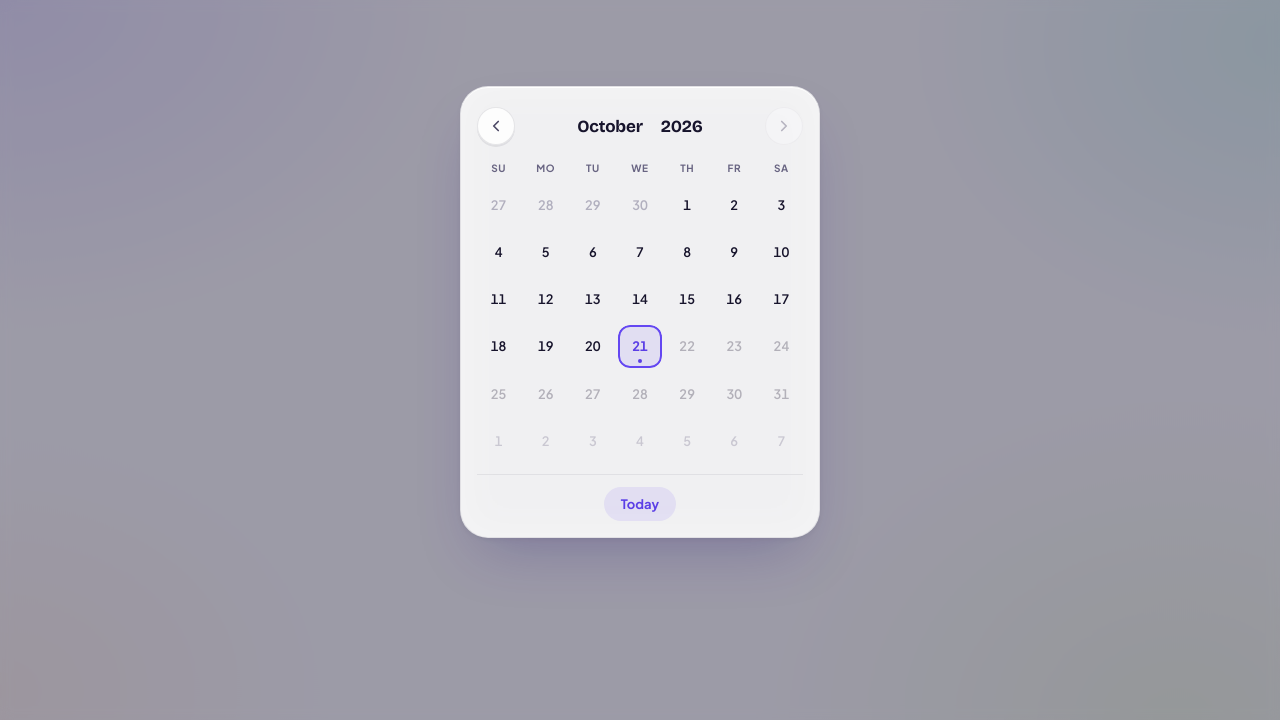
Test: CalendarPicker › picks a month from the month view, with months after the max date disabled
Step 1. Click the button with aria-label "October, choose month" → point(610, 126), box [569,112,651,141]
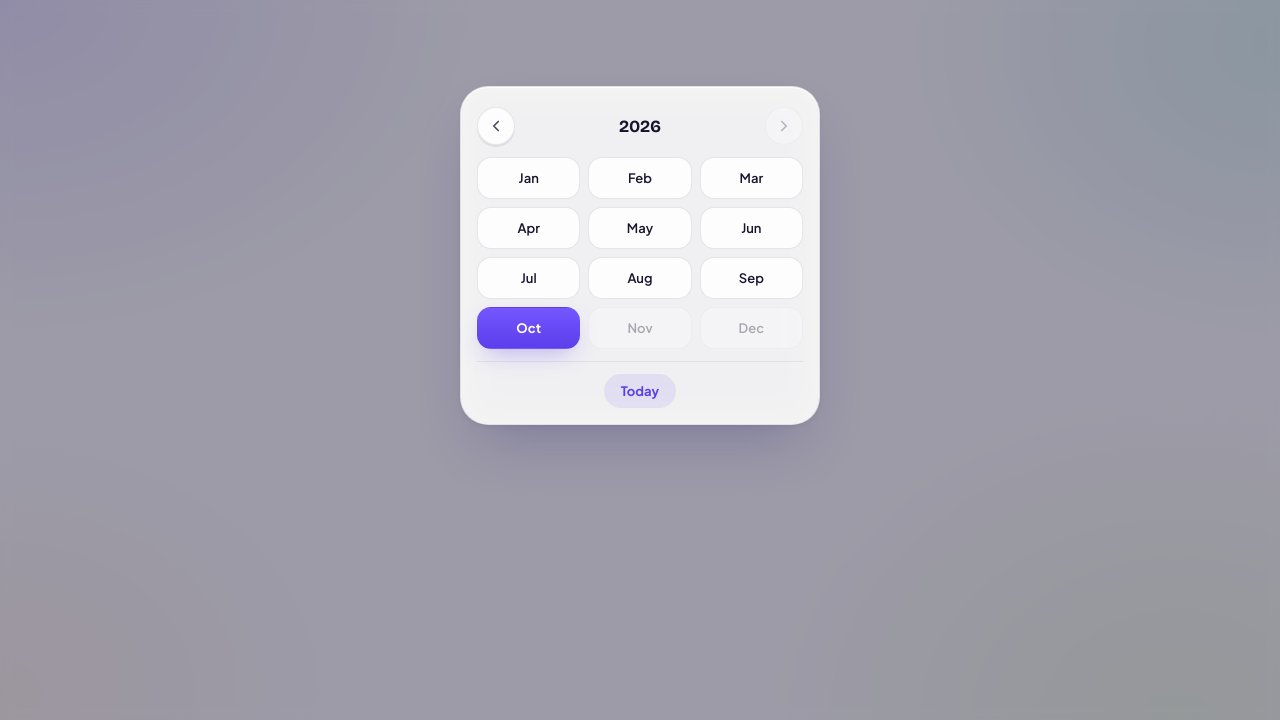
Expected: the button named "Next month" is disabled, [765,107,803,145]
Now the button "Nov" is disabled, box [588,307,692,349]
Now the button "Dec" is disabled, box [700,307,803,349]
Step 2. Click the button "Mar" → point(751, 178), box [700,157,803,199]
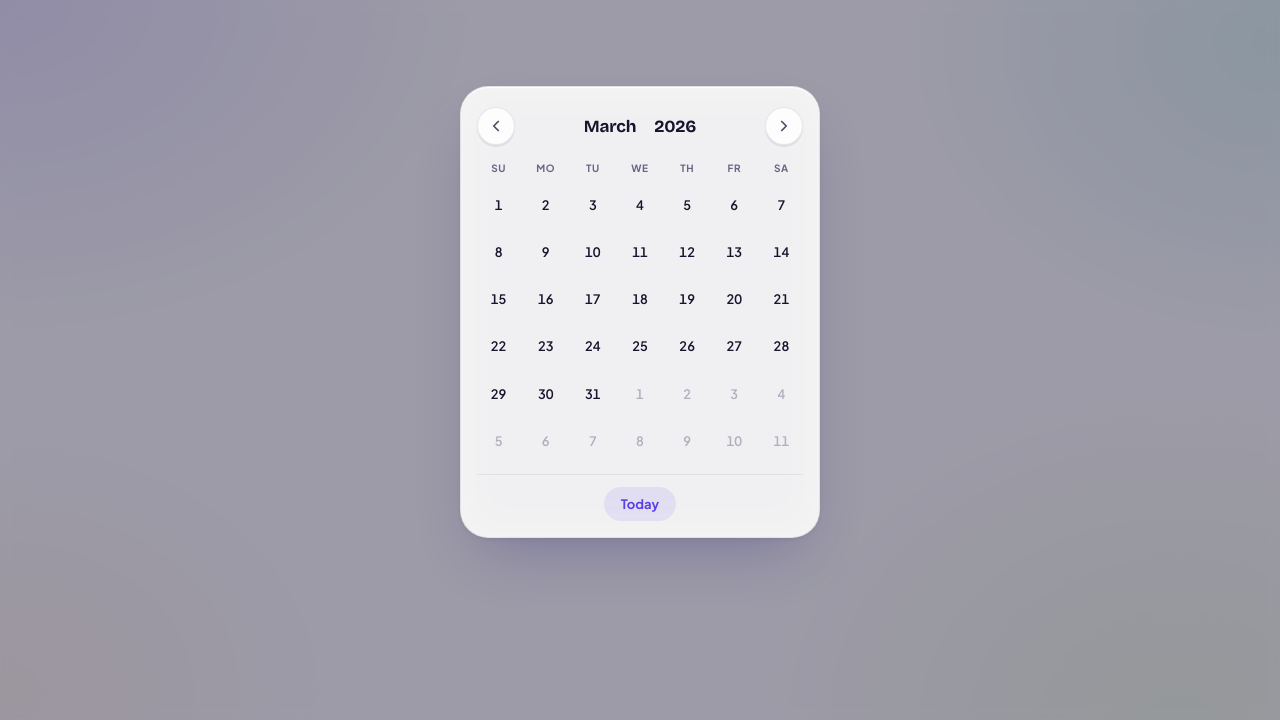
Now the button with aria-label "March, choose month" is shown, box [576,112,644,141]
